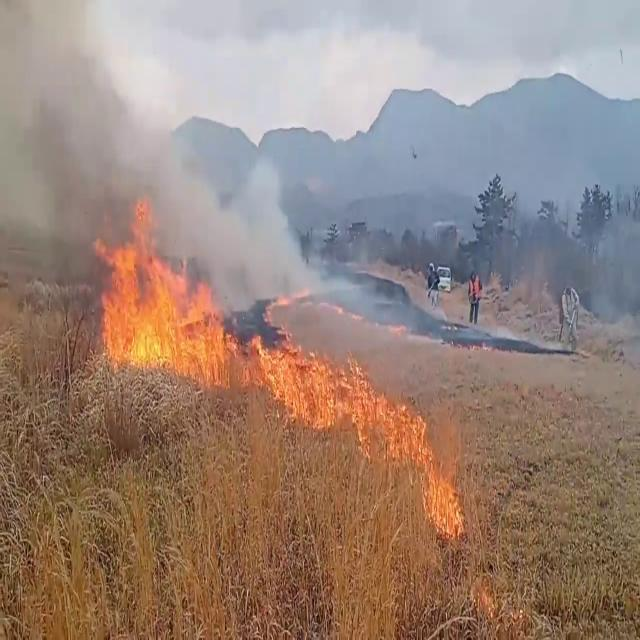Fire: (90, 198, 239, 376), (360, 379, 463, 541), (254, 324, 362, 422)
Smoke: (0, 19, 324, 298)
